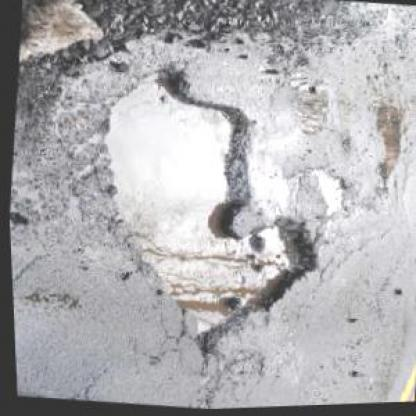pothole: (76, 58, 341, 370), (364, 108, 410, 190), (301, 168, 351, 220)
